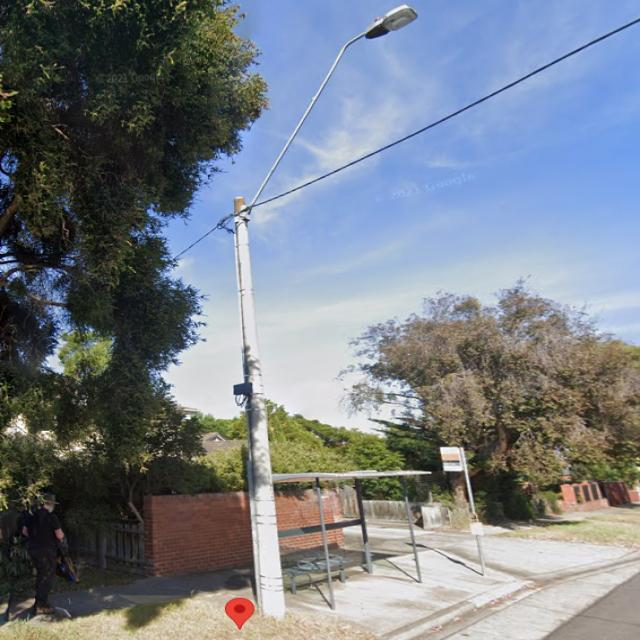concrete-pole: (233, 197, 286, 619)
streetlight: (245, 2, 419, 220)
top mount suitable pole: (232, 2, 419, 619)
